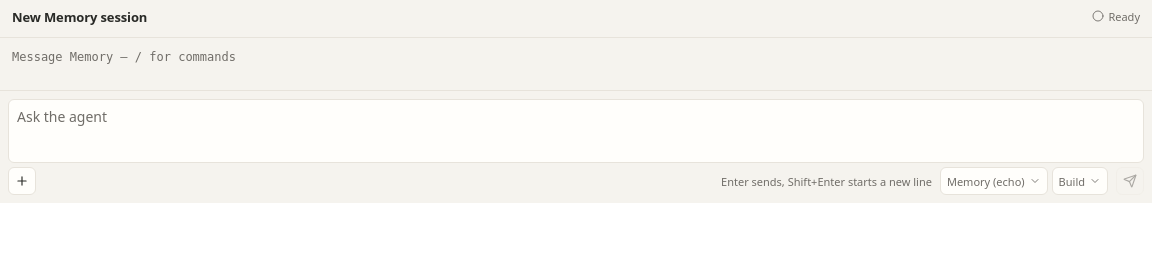
Test: AgentPanel — the authorization a run waits on › offers stop rather than send while a run is in flight, and refuses a second prompt
Type "first" into the text box with class "agent-composer-field". click: [576, 131]
box: 8,99 -> 1144,163
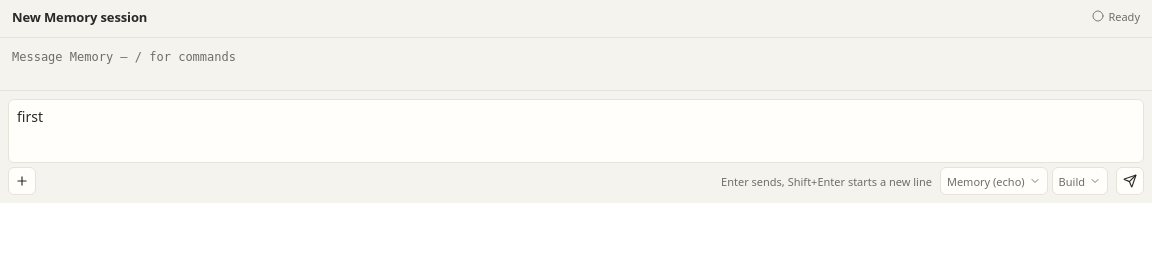
Click the button named "Send". click: [1130, 181]
box: 1116,167 -> 1144,195
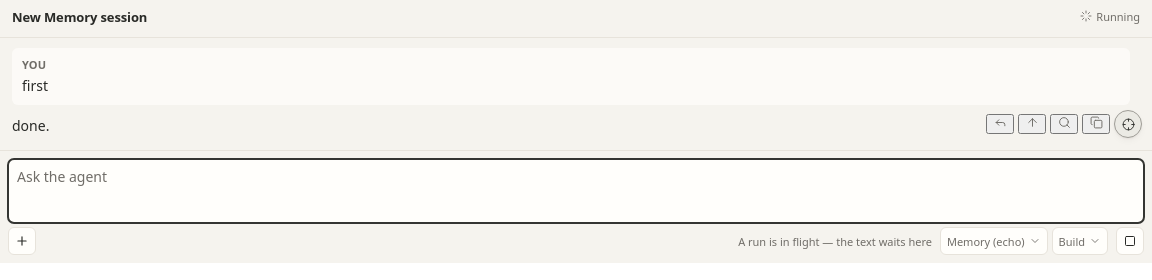
Result: the button is gone
